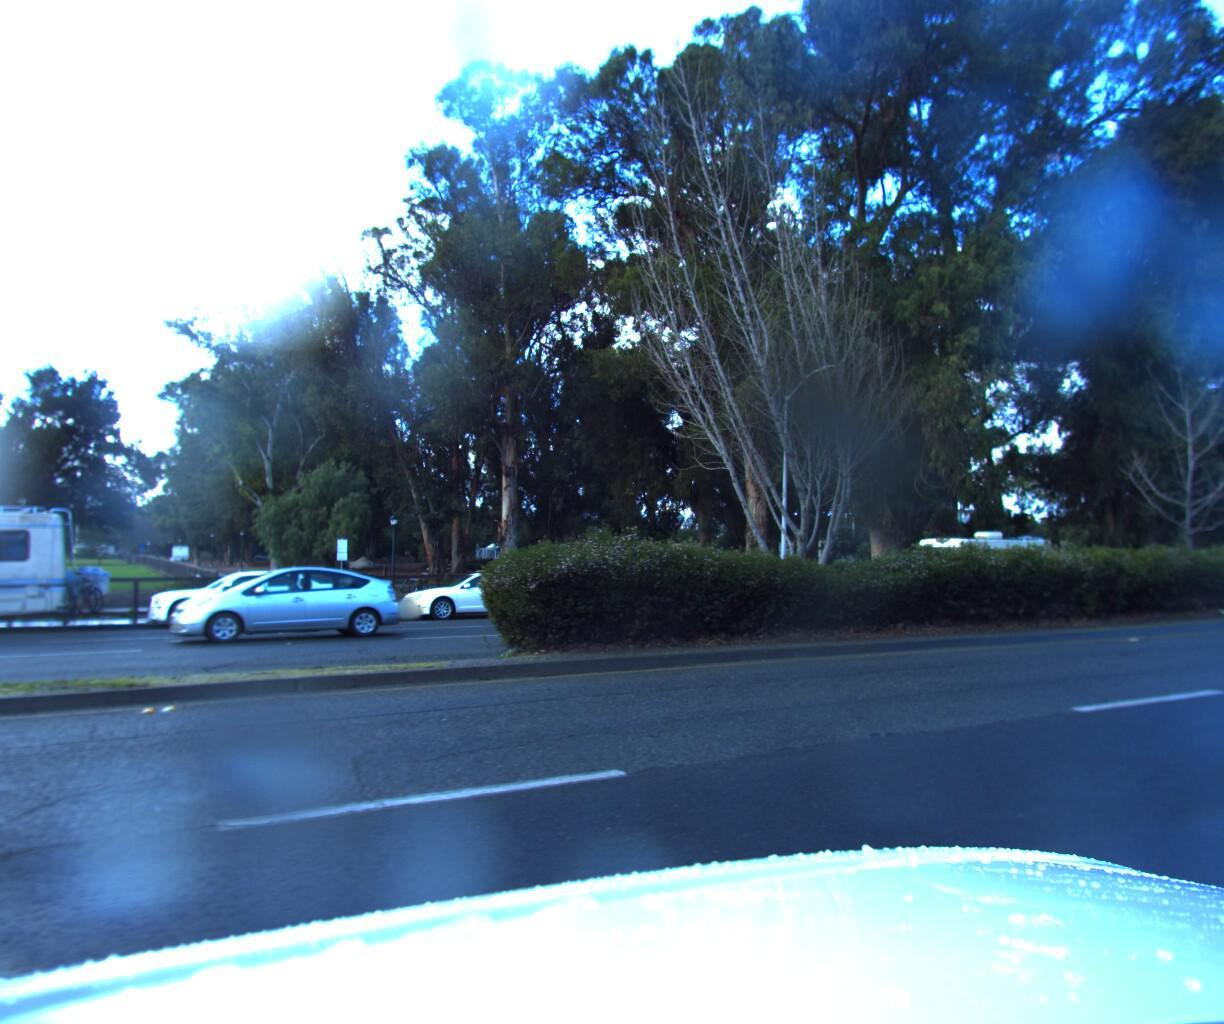car: (163, 568, 400, 645), (146, 578, 345, 638), (386, 574, 557, 626)
other_vehicle: (888, 532, 1058, 614)
